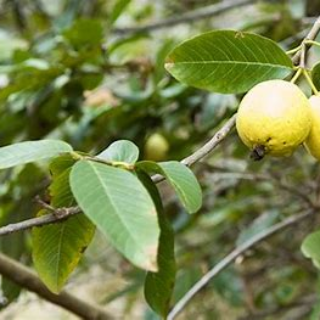oi: (228, 72, 310, 165)
